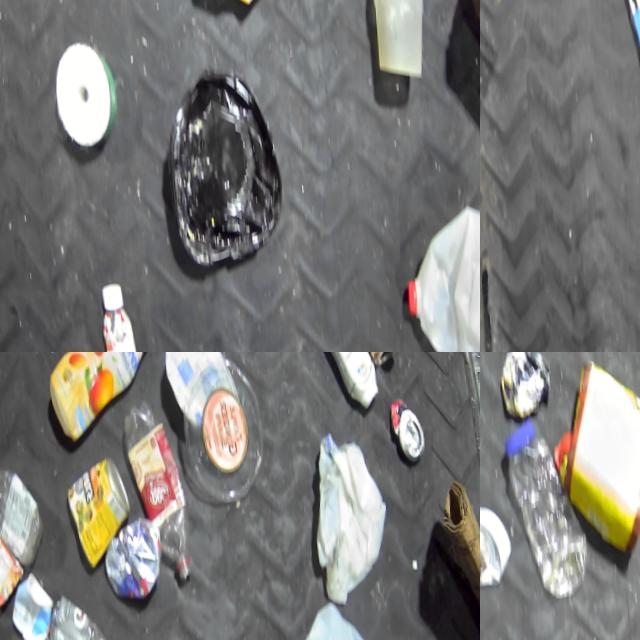can: (501, 414, 588, 597), (61, 448, 135, 572), (495, 352, 552, 417), (386, 389, 426, 459), (0, 523, 25, 612)
milk_jug: (305, 418, 391, 605), (395, 193, 480, 352), (281, 588, 391, 640)
non_white_jug: (41, 352, 163, 445)
plastic_bottle: (118, 393, 193, 586), (0, 451, 47, 571)
